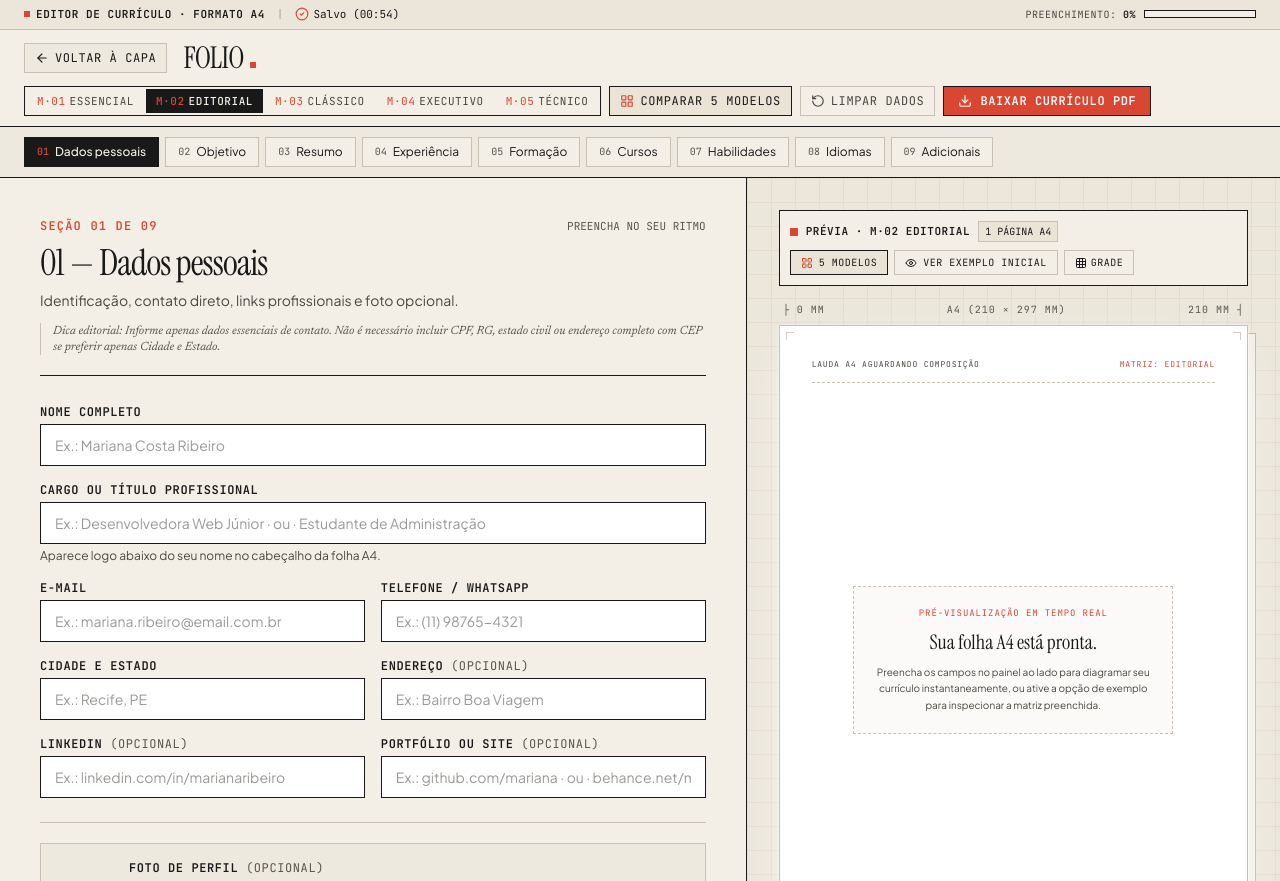
FOLIO — Fase 07: Monetização com AdSense, Recuperação de Adblock e Doações Pix › 1, 2, 3 e 12. O editor e a exportação PDF funcionam normalmente sem anúncios sobre campos, botões ou pré-visualização, mesmo quando o AdSense não carrega
Earlier steps of the test are not shown.
Type "Mariana Costa" into the field labelled "Nome completo" at (373, 445), box [40, 424, 706, 466]
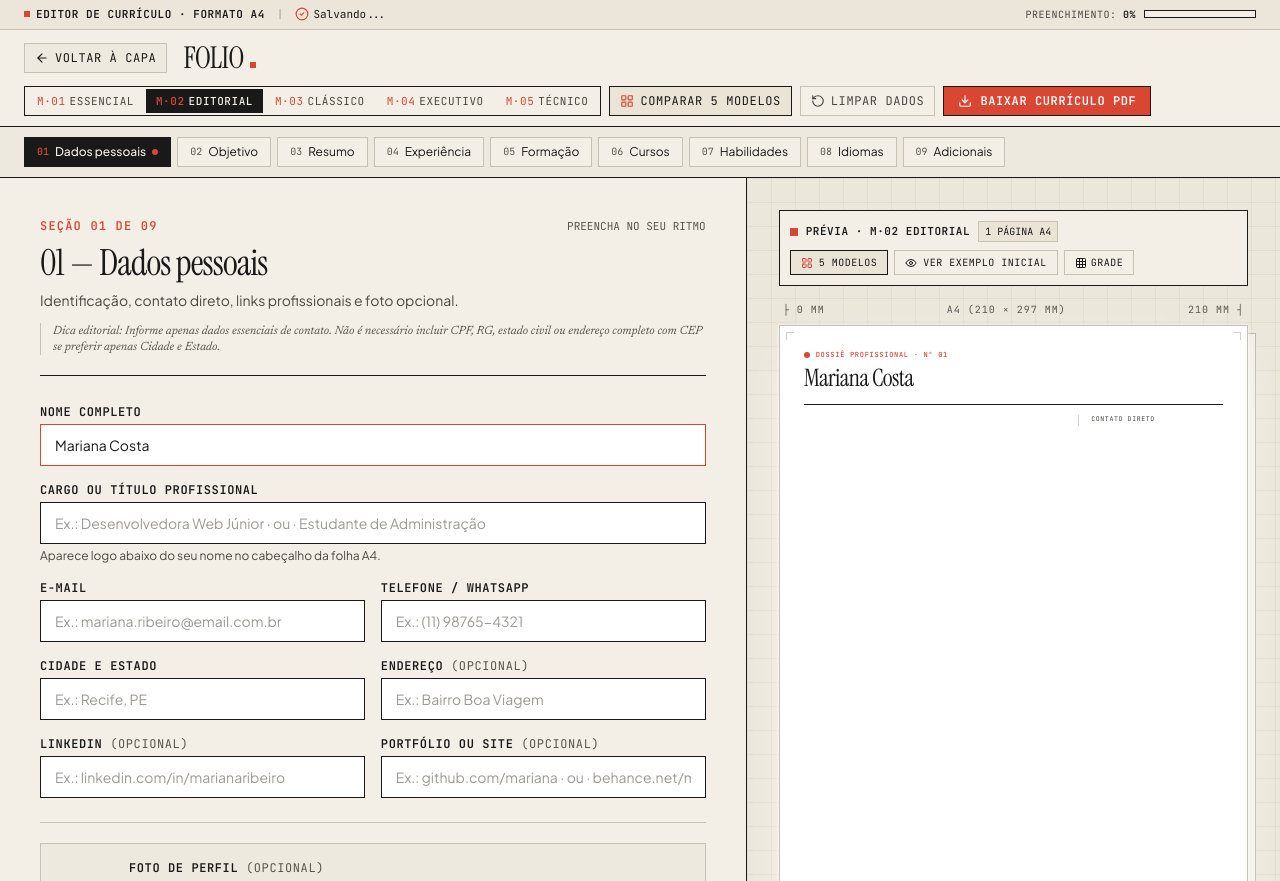
Click the button "BAIXAR CURRÍCULO PDF" at (1047, 101), box [943, 86, 1151, 116]
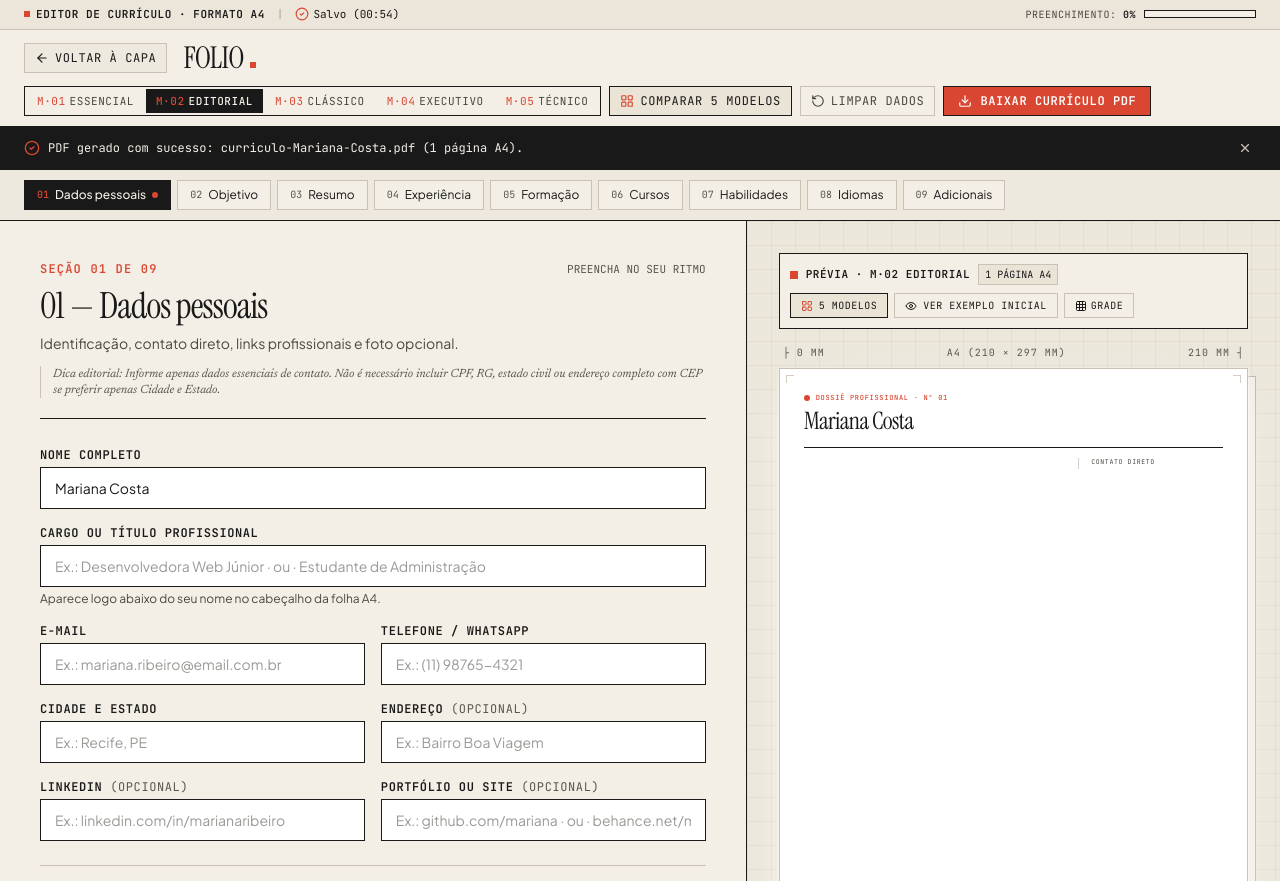
Expected: the text "PDF gerado com sucesso: curriculo-Mariana-Costa.pdf" is shown, [48, 140, 523, 156]
